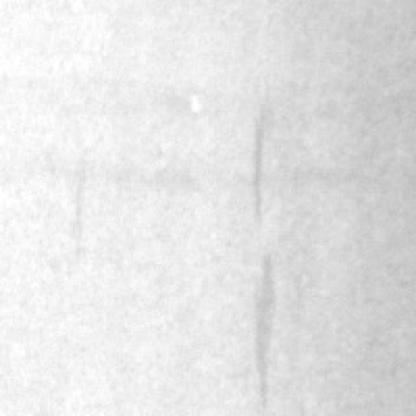inclusion: (237, 102, 275, 233)
